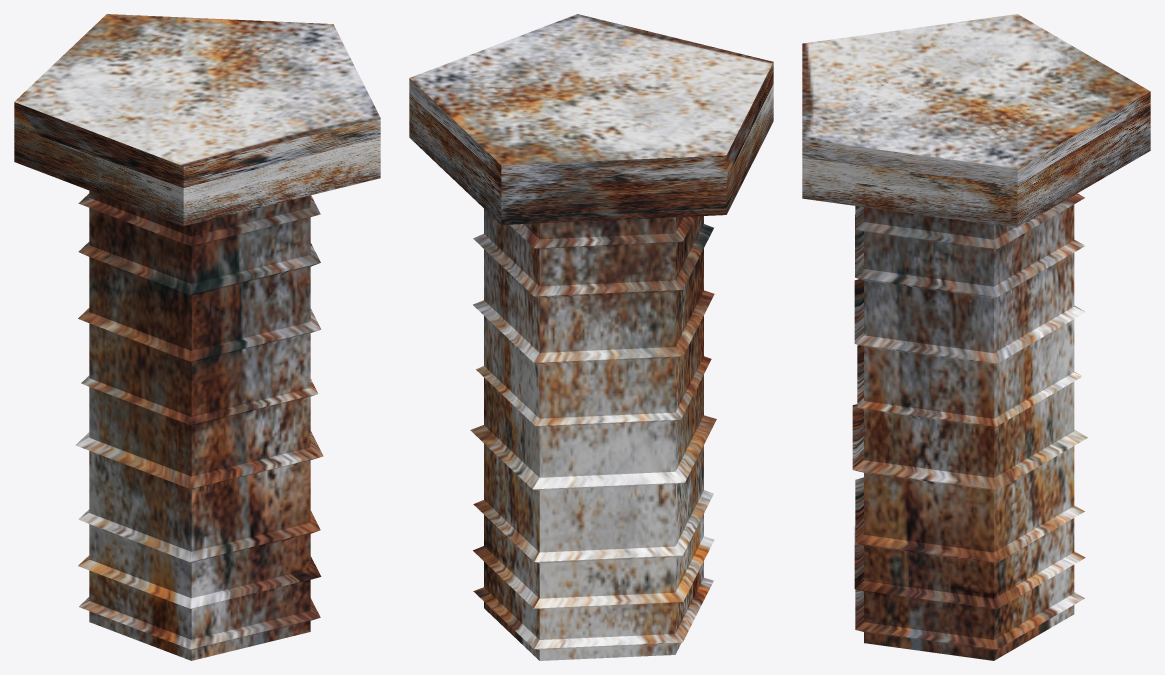
File: bout.fbx
The picture shows the model from 3 angles, left to right: view 1: azimuth 30°, elevation 25°; view 2: azimuth 150°, elevation 25°; view 3: azimuth 270°, elevation 25°; orthographic projection.
Visible parts, largest first — view 1: Cylinder.002, Cylinder; view 2: Cylinder.002, Cylinder; view 3: Cylinder.002, Cylinder.
Part boxes in pixels (x1,y1,x2,y2): Cylinder.002: (75,190,323,660); Cylinder: (14,14,380,226); Cylinder.002: (470,209,716,660); Cylinder: (409,14,773,224); Cylinder.002: (852,193,1087,660); Cylinder: (802,14,1150,227).
Bounding box in the file's own units: 47.56 × 75 × 45.24.
